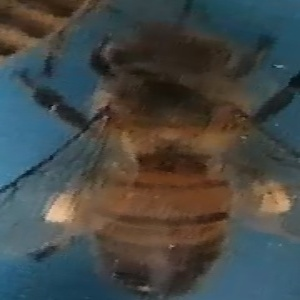bee: (83, 21, 295, 300)
